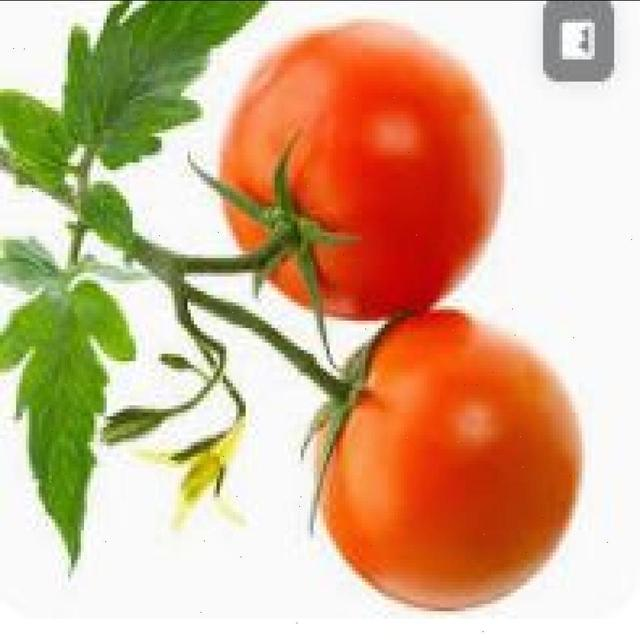Healthy Fruit: (212, 116, 279, 313)
